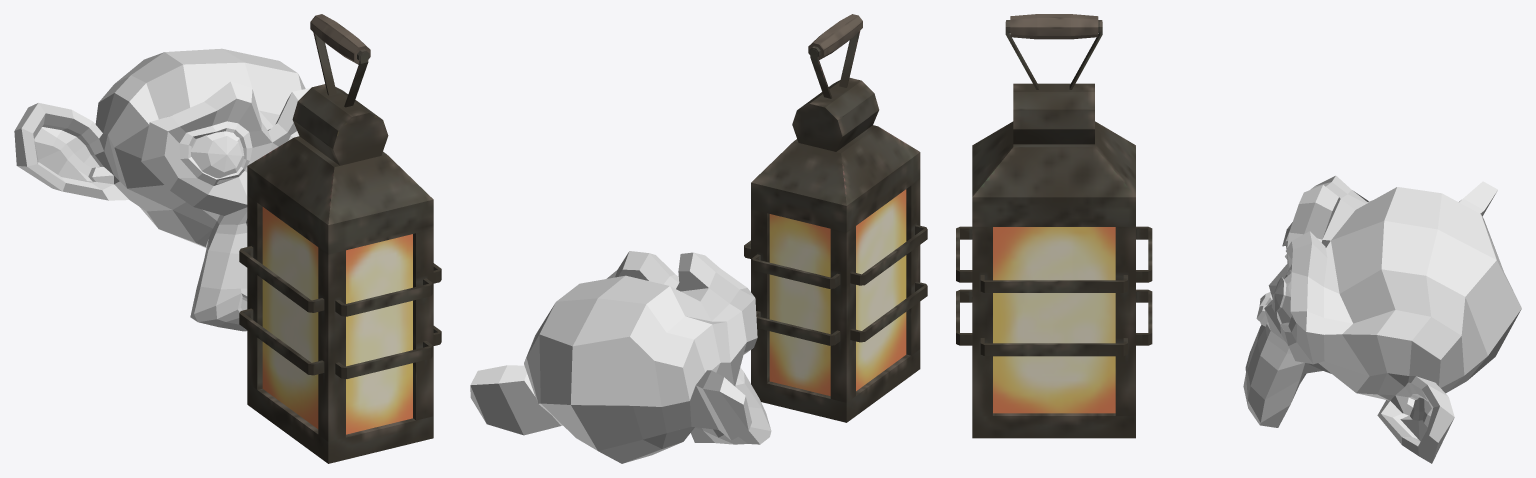
The model's file is lantern.fbx.
The picture shows the model from 3 angles, left to right: view 1: azimuth 30°, elevation 25°; view 2: azimuth 150°, elevation 25°; view 3: azimuth 270°, elevation 25°; orthographic projection. The views are drawn at different scales.
Visible parts, largest first — view 1: Plate2, Suzanne, Light, Handle; view 2: Suzanne, Plate2, Light, Handle; view 3: Suzanne, Plate2, Light, Handle.
Part boxes in pixels (x1,y1,x2,y2): Plate2: [239, 32, 441, 463]; Suzanne: [14, 48, 310, 331]; Light: [262, 207, 412, 434]; Handle: [310, 14, 370, 64]; Suzanne: [470, 251, 771, 463]; Plate2: [744, 31, 927, 422]; Light: [769, 189, 906, 395]; Handle: [808, 14, 862, 59]; Suzanne: [1243, 175, 1521, 463]; Plate2: [956, 22, 1152, 438]; Light: [993, 227, 1115, 413]; Handle: [1006, 14, 1102, 39].
Size of the model in its own units: 57.98 by 66.8 by 86.46.
1 material, 1 textured.
